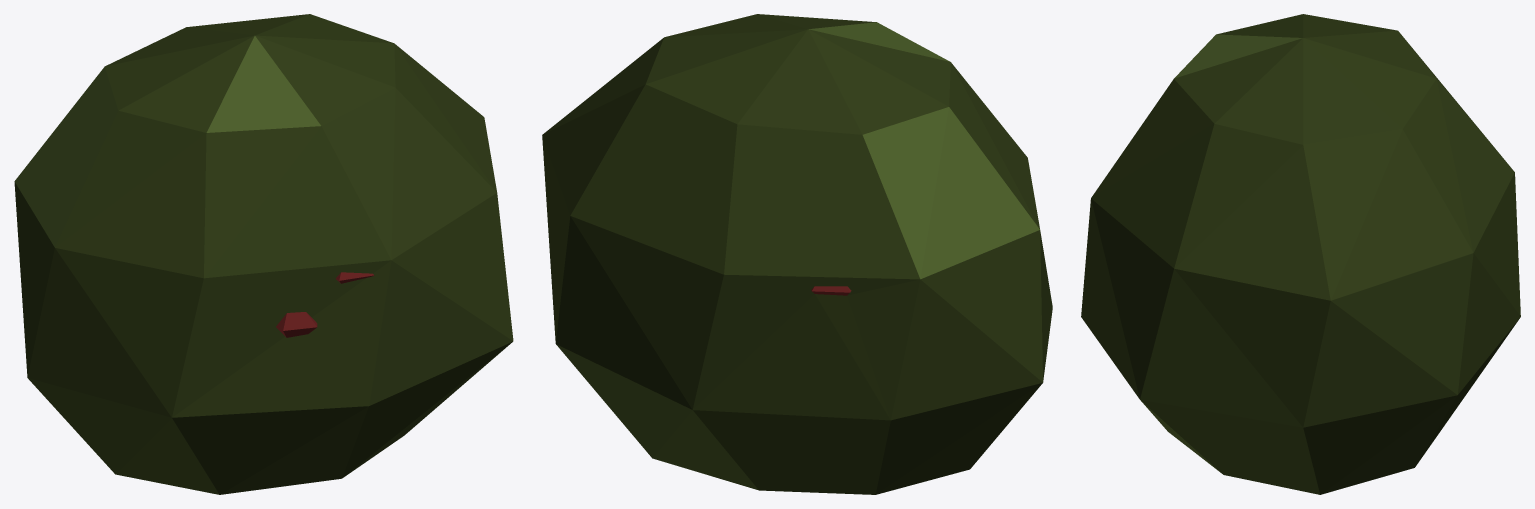
File: Bush_Berry_02.fbx
The picture shows the model from 3 angles, left to right: view 1: azimuth 30°, elevation 25°; view 2: azimuth 150°, elevation 25°; view 3: azimuth 270°, elevation 25°; orthographic projection. The views are drawn at different scales.
Parts seen in each view (by area): view 1: Bush_Berry_02_Mesh; view 2: Bush_Berry_02_Mesh; view 3: Bush_Berry_02_Mesh.
Part boxes in pixels (<box>): Bush_Berry_02_Mesh: <box>14,14,513,494</box>; Bush_Berry_02_Mesh: <box>542,14,1052,494</box>; Bush_Berry_02_Mesh: <box>1081,14,1520,494</box>.
Size of the model in its own units: 1.17 by 1.04 by 0.9728.
1 material, 1 textured.
